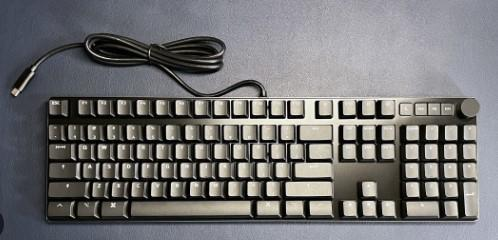Keyboard: (47, 97, 480, 222)
